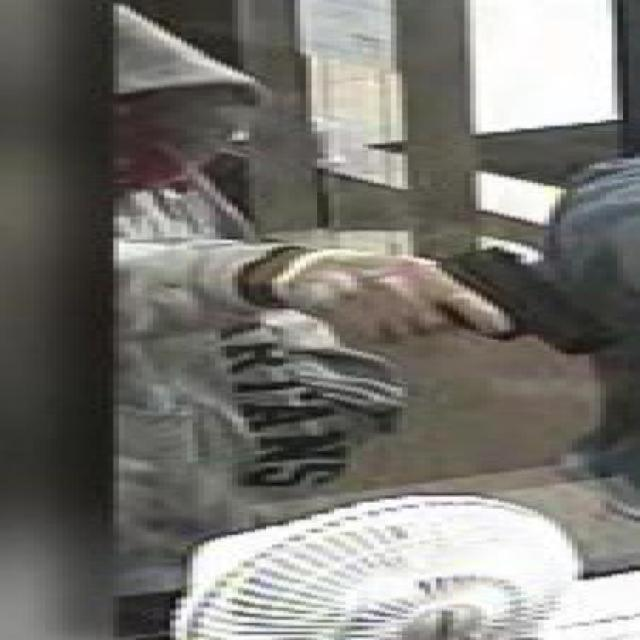pistol: (323, 245, 606, 354)
